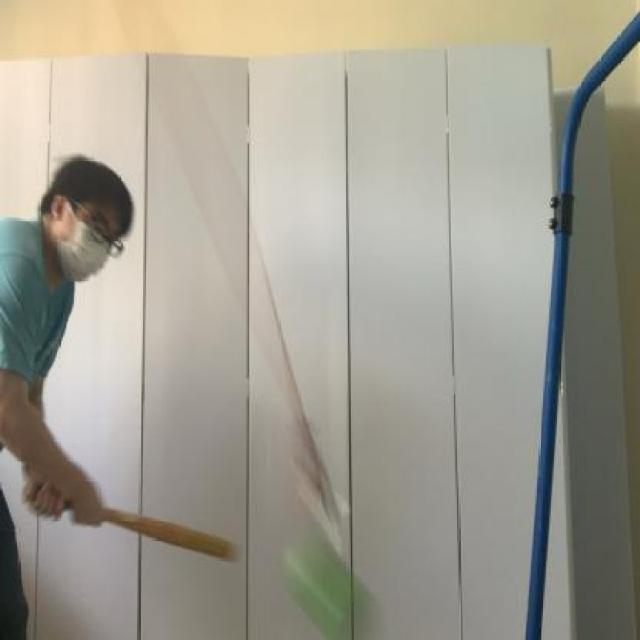baseball: (273, 527, 382, 640)
